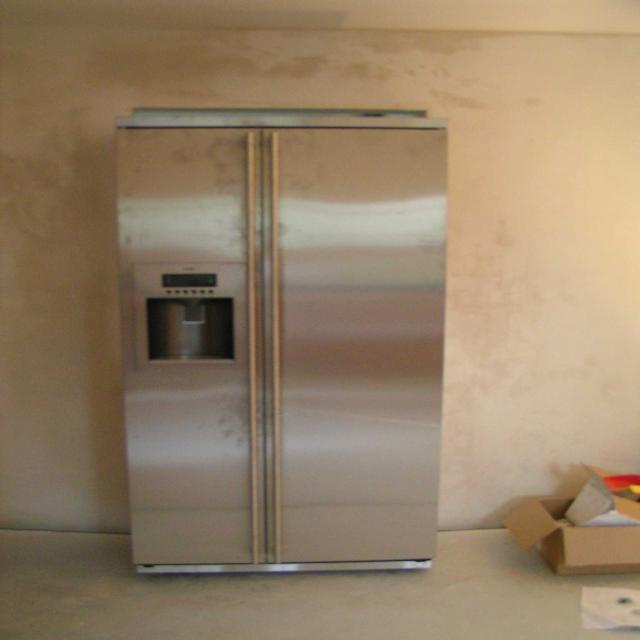refrigerator: (112, 109, 450, 575)
